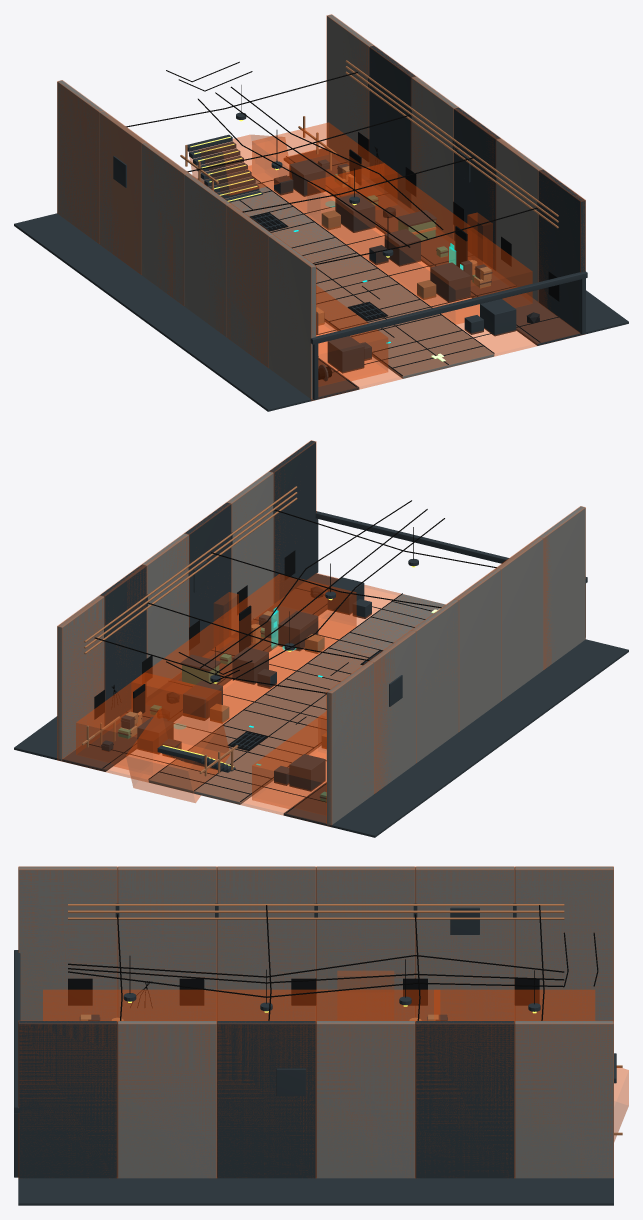
Rendered from Hesperus_SideAlley_AssembledOnly_WideFit.glb.
3 views of the same model, one above another, from view 1: azimuth 30°, elevation 25°; view 2: azimuth 150°, elevation 25°; view 3: azimuth 270°, elevation 25° (orthographic). The views are drawn at different scales.
Parts seen in each view (by area): view 1: COL_Floor_Main_WideFit, COL_Props_Right_WideFit, Alley_PlayableFloor_Core, Alley_LeftDressingFloor, COL_LeftWall_WideFit, COL_Props_RightFar_WideFit, Alley_RightDressingFloor, LeftWall_Segment_01, LeftWall_Segment_04, LeftWall_Segment_03, LeftWall_Segment_02, LeftWall_Segment_06 (+21 smaller); view 2: COL_Floor_Main_WideFit, COL_Props_Right_WideFit, Alley_PlayableFloor_Core, Alley_LeftDressingFloor, COL_Props_RightFar_WideFit, LeftWall_Segment_06, Alley_RightDressingFloor, COL_Stairs_WideFit, RightWall_Segment_06, LeftWall_Segment_02, LeftWall_Segment_03, LeftWall_Segment_01 (+21 smaller); view 3: Alley_RightDressingFloor, RightWall_Segment_02, RightWall_Segment_04, RightWall_Segment_05, RightWall_Segment_06, RightWall_Segment_01, RightWall_Segment_03, LeftWall_Segment_04, LeftWall_Segment_06, LeftWall_Segment_01, LeftWall_Segment_03, LeftWall_Segment_02 (+21 smaller).
Part boxes in pixels (x1,y1,x2,y2): COL_Floor_Main_WideFit: [141, 147, 579, 400]; COL_Props_Right_WideFit: [307, 163, 532, 324]; Alley_PlayableFloor_Core: [197, 170, 494, 378]; Alley_LeftDressingFloor: [14, 213, 359, 411]; COL_LeftWall_WideFit: [57, 80, 316, 398]; COL_Props_RightFar_WideFit: [252, 122, 397, 224]; Alley_RightDressingFloor: [284, 148, 628, 345]; LeftWall_Segment_01: [269, 235, 315, 399]; LeftWall_Segment_04: [142, 142, 188, 305]; LeftWall_Segment_03: [184, 173, 230, 336]; LeftWall_Segment_02: [226, 204, 273, 367]; LeftWall_Segment_06: [57, 80, 103, 243]; COL_Floor_Main_WideFit: [57, 573, 425, 826]; COL_Props_Right_WideFit: [131, 574, 356, 723]; Alley_PlayableFloor_Core: [148, 594, 445, 804]; Alley_LeftDressingFloor: [283, 639, 628, 837]; COL_Props_RightFar_WideFit: [76, 673, 221, 774]; LeftWall_Segment_06: [327, 661, 373, 825]; Alley_RightDressingFloor: [14, 573, 337, 771]; COL_Stairs_WideFit: [126, 707, 229, 802]; RightWall_Segment_06: [57, 595, 104, 760]; LeftWall_Segment_02: [496, 537, 543, 700]; LeftWall_Segment_03: [454, 568, 500, 731]; LeftWall_Segment_01: [539, 506, 585, 669]; Alley_RightDressingFloor: [18, 1178, 613, 1205]; RightWall_Segment_02: [117, 1021, 216, 1178]; RightWall_Segment_04: [316, 1021, 415, 1178]; RightWall_Segment_05: [415, 1021, 514, 1178]; RightWall_Segment_06: [514, 1021, 613, 1178]; RightWall_Segment_01: [18, 1021, 117, 1178]; RightWall_Segment_03: [217, 1021, 316, 1178]; LeftWall_Segment_04: [316, 866, 415, 1020]; LeftWall_Segment_06: [514, 866, 613, 1020]; LeftWall_Segment_01: [18, 866, 117, 1020]; LeftWall_Segment_03: [217, 866, 316, 1020]; LeftWall_Segment_02: [117, 866, 216, 1020].
Bounding box in the file's own units: 19.7 × 7.54 × 24.78.
